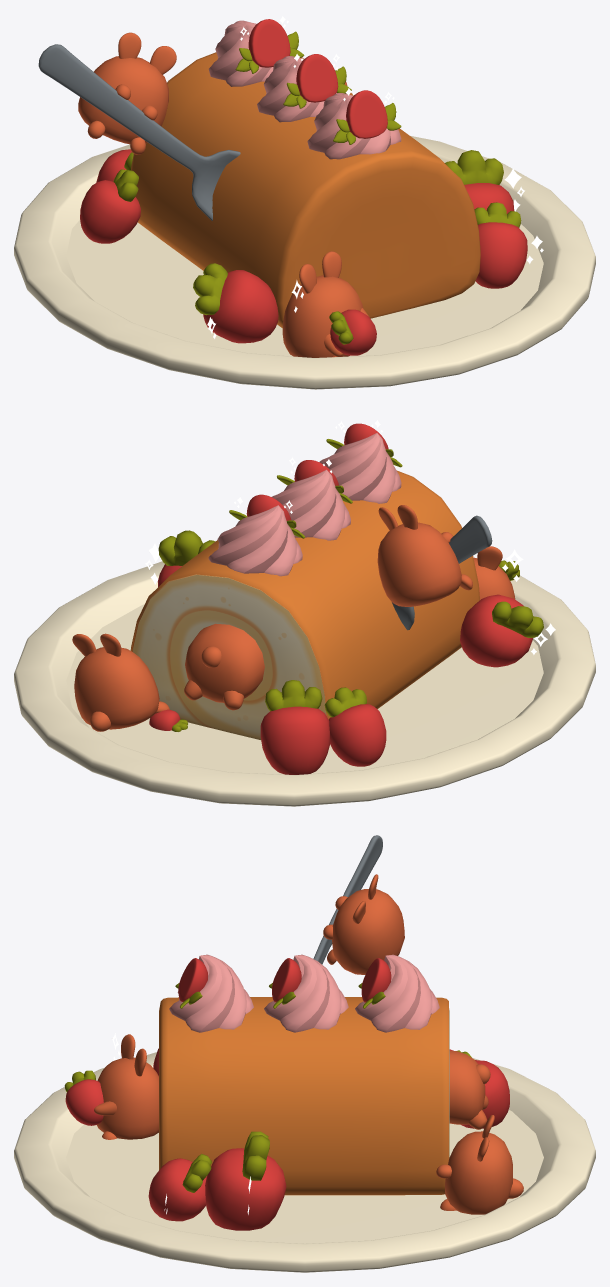
File: roll_cake.fbx
3 renders of one model, top to bottom at view 1: azimuth 30°, elevation 25°; view 2: azimuth 150°, elevation 25°; view 3: azimuth 270°, elevation 25°, orthographic. The views are drawn at different scales.
Visible parts, largest first — view 1: Plate, Roll_cake, Spoon, Bony.012, Bony.010, Berry.013, Berry, Berry.014, Meringue, Berry.001, Meringue.001, Meringue.002 (+5 smaller); view 2: Plate, Roll_cake, Bony.006, Bony.012, Berry.015, Bony.011, Berry.013, Meringue.002, Berry.014, Meringue, Meringue.001, Spoon (+6 smaller); view 3: Plate, Roll_cake, Berry.001, Bony.006, Bony.012, Bony.010, Meringue.002, Meringue.001, Meringue, Berry, Bony.011, Berry.012 (+5 smaller).
Boxes of the visible parts, x1=… form: Plate: x1=14, y1=136, x2=595, y2=389; Roll_cake: x1=131, y1=52, x2=480, y2=327; Spoon: x1=38, y1=44, x2=240, y2=220; Bony.012: x1=78, y1=32, x2=176, y2=154; Bony.010: x1=282, y1=251, x2=368, y2=357; Berry.013: x1=193, y1=263, x2=278, y2=343; Berry: x1=474, y1=202, x2=527, y2=288; Berry.014: x1=80, y1=169, x2=140, y2=243; Meringue: x1=307, y1=93, x2=401, y2=159; Berry.001: x1=445, y1=150, x2=514, y2=213; Meringue.001: x1=257, y1=56, x2=346, y2=122; Meringue.002: x1=208, y1=20, x2=273, y2=86; Plate: x1=14, y1=561, x2=595, y2=806; Roll_cake: x1=130, y1=470, x2=479, y2=739; Bony.006: x1=72, y1=633, x2=169, y2=731; Bony.012: x1=377, y1=505, x2=472, y2=606; Berry.015: x1=260, y1=680, x2=330, y2=774; Bony.011: x1=184, y1=623, x2=264, y2=710; Berry.013: x1=460, y1=594, x2=543, y2=667; Meringue.002: x1=208, y1=505, x2=302, y2=576; Berry.014: x1=324, y1=687, x2=386, y2=766; Meringue: x1=319, y1=433, x2=401, y2=503; Meringue.001: x1=272, y1=469, x2=350, y2=540; Spoon: x1=392, y1=515, x2=492, y2=630; Plate: x1=14, y1=1052, x2=595, y2=1272; Roll_cake: x1=159, y1=997, x2=449, y2=1195; Berry.001: x1=205, y1=1131, x2=286, y2=1230; Bony.006: x1=436, y1=1115, x2=523, y2=1214; Bony.012: x1=323, y1=874, x2=404, y2=974; Bony.010: x1=94, y1=1034, x2=158, y2=1139; Meringue.002: x1=355, y1=954, x2=439, y2=1032; Meringue.001: x1=264, y1=954, x2=348, y2=1032; Meringue: x1=169, y1=954, x2=253, y2=1032; Berry: x1=148, y1=1154, x2=212, y2=1221; Bony.011: x1=449, y1=1050, x2=490, y2=1129; Berry.012: x1=64, y1=1070, x2=103, y2=1125.
Size of the model in its own units: 281 by 148 by 305.
3 materials, 3 textured.
